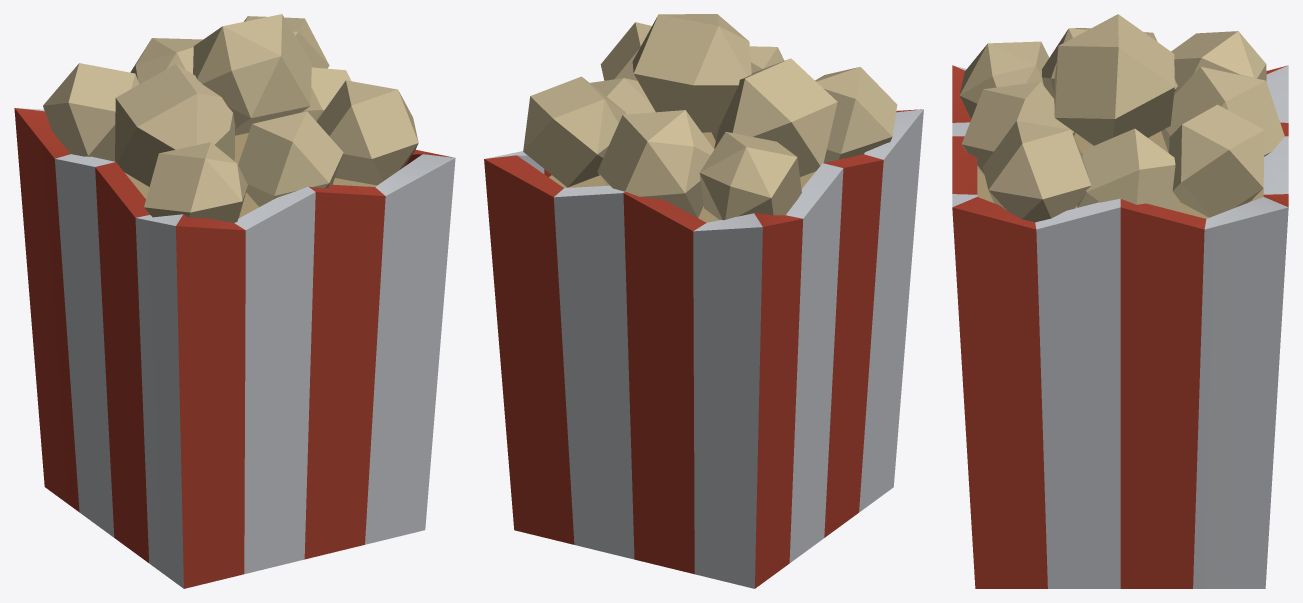
The model's file is SM_Prop_Sign_Popcorn_01.fbx.
The picture shows the model from 3 angles, left to right: view 1: azimuth 30°, elevation 25°; view 2: azimuth 150°, elevation 25°; view 3: azimuth 270°, elevation 25°; orthographic projection. The views are drawn at different scales.
Parts seen in each view (by area): view 1: SM_Prop_Sign_Popcorn_01; view 2: SM_Prop_Sign_Popcorn_01; view 3: SM_Prop_Sign_Popcorn_01.
Part boxes in pixels (x1,y1,x2,y2): SM_Prop_Sign_Popcorn_01: [14, 14, 455, 588]; SM_Prop_Sign_Popcorn_01: [484, 14, 923, 588]; SM_Prop_Sign_Popcorn_01: [952, 14, 1288, 588].
Bounding box in the file's own units: 42.32 × 70.03 × 42.13.
